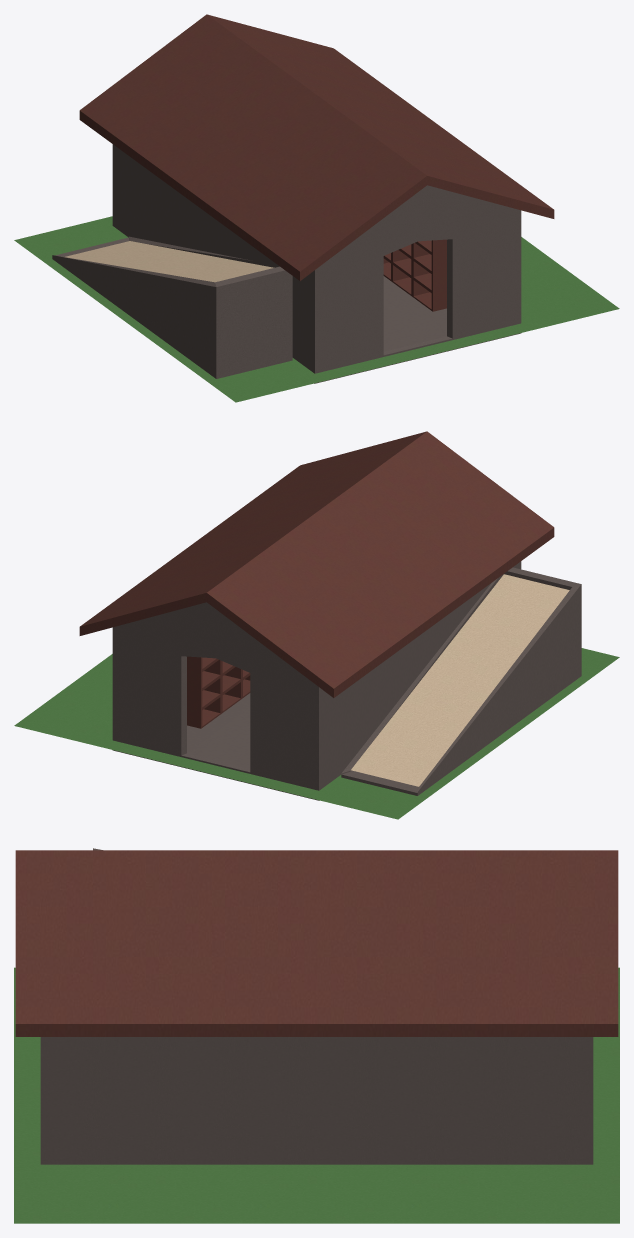
Rendered from house7.obj.
3 views of the same model, one above another, from view 1: azimuth 30°, elevation 25°; view 2: azimuth 150°, elevation 25°; view 3: azimuth 270°, elevation 25° (orthographic). The views are drawn at different scales.
Visible parts, largest first — view 1: Cube.006_Cube.074, Cube.004_Cube.073, Cube.009_Cube.077, Plane.002_Plane.004_Plane.002_Plane.008, Plane.002_Plane.003_Plane.002_Plane.007, Cube.007_Cube.075, Plane.002_Plane.005; view 2: Cube.006_Cube.074, Cube.004_Cube.073, Cube.009_Cube.077, Plane.002_Plane.001_Plane.002_Plane.006, Plane.002_Plane.005, Cube.007_Cube.075, Plane.002_Plane.003_Plane.002_Plane.007; view 3: Cube.006_Cube.074, Cube.004_Cube.073, Plane.002_Plane.001_Plane.002_Plane.006, Plane.002_Plane.004_Plane.002_Plane.008, Plane.002_Plane.005, Plane.002_Plane.003_Plane.002_Plane.007.
Part boxes in pixels (left/top/right/bottom): Cube.006_Cube.074: left=79, top=14, right=554, bottom=280; Cube.004_Cube.073: left=112, top=144, right=521, bottom=383; Cube.009_Cube.077: left=52, top=236, right=292, bottom=378; Plane.002_Plane.004_Plane.002_Plane.008: left=418, top=237, right=619, bottom=355; Plane.002_Plane.003_Plane.002_Plane.007: left=125, top=319, right=427, bottom=402; Cube.007_Cube.075: left=383, top=239, right=446, bottom=311; Plane.002_Plane.005: left=14, top=216, right=133, bottom=321; Cube.006_Cube.074: left=79, top=431, right=554, bottom=697; Cube.004_Cube.073: left=112, top=561, right=521, bottom=800; Cube.009_Cube.077: left=341, top=567, right=581, bottom=795; Plane.002_Plane.001_Plane.002_Plane.006: left=14, top=654, right=215, bottom=772; Plane.002_Plane.005: left=206, top=736, right=508, bottom=819; Cube.007_Cube.075: left=187, top=656, right=250, bottom=728; Plane.002_Plane.003_Plane.002_Plane.007: left=500, top=648, right=619, bottom=738; Cube.006_Cube.074: left=15, top=850, right=618, bottom=1036; Cube.004_Cube.073: left=40, top=1037, right=593, bottom=1164; Plane.002_Plane.001_Plane.002_Plane.006: left=317, top=1095, right=619, bottom=1223; Plane.002_Plane.004_Plane.002_Plane.008: left=14, top=1095, right=316, bottom=1223; Plane.002_Plane.005: left=593, top=967, right=619, bottom=1095; Plane.002_Plane.003_Plane.002_Plane.007: left=14, top=967, right=40, bottom=1095.
Size of the model in its own units: 40 by 18.86 by 40.
